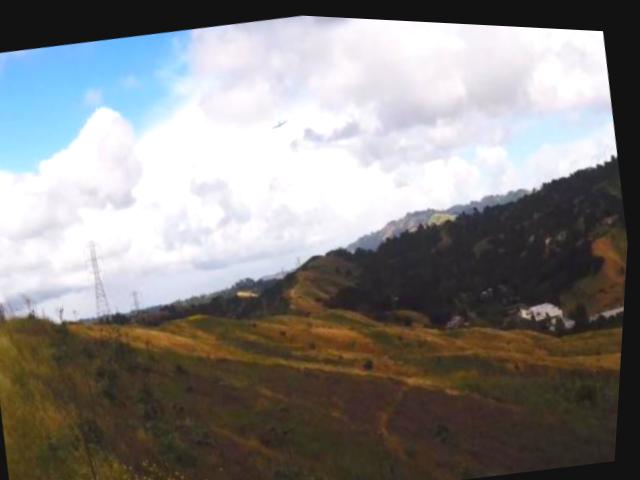iha: (265, 113, 292, 128)
